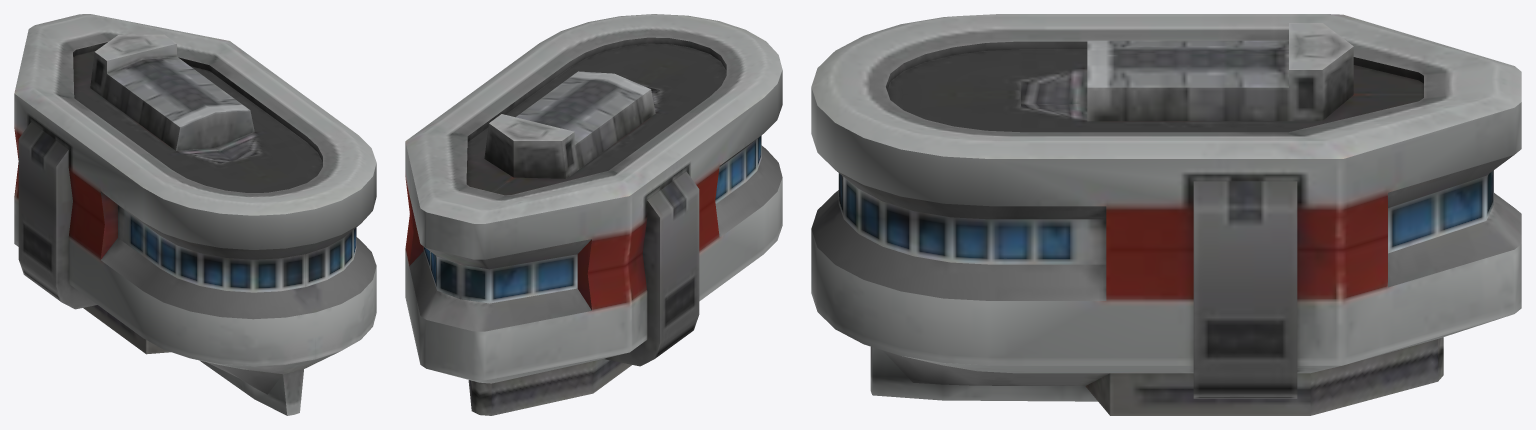
The model's file is Part - Main form 05-CYtLzC6j.glb.
3 renders of one model, left to right at view 1: azimuth 30°, elevation 25°; view 2: azimuth 150°, elevation 25°; view 3: azimuth 270°, elevation 25°, orthographic. The views are drawn at different scales.
Visible parts, largest first — view 1: Main_form_05; view 2: Main_form_05; view 3: Main_form_05.
Part boxes in pixels (<box>): Main_form_05: <box>14,14,376,415</box>; Main_form_05: <box>405,14,782,415</box>; Main_form_05: <box>811,14,1521,415</box>.
Size of the model in its own units: 1.87 by 1.86 by 3.48.
Materials: 1 (1 with a texture image).
